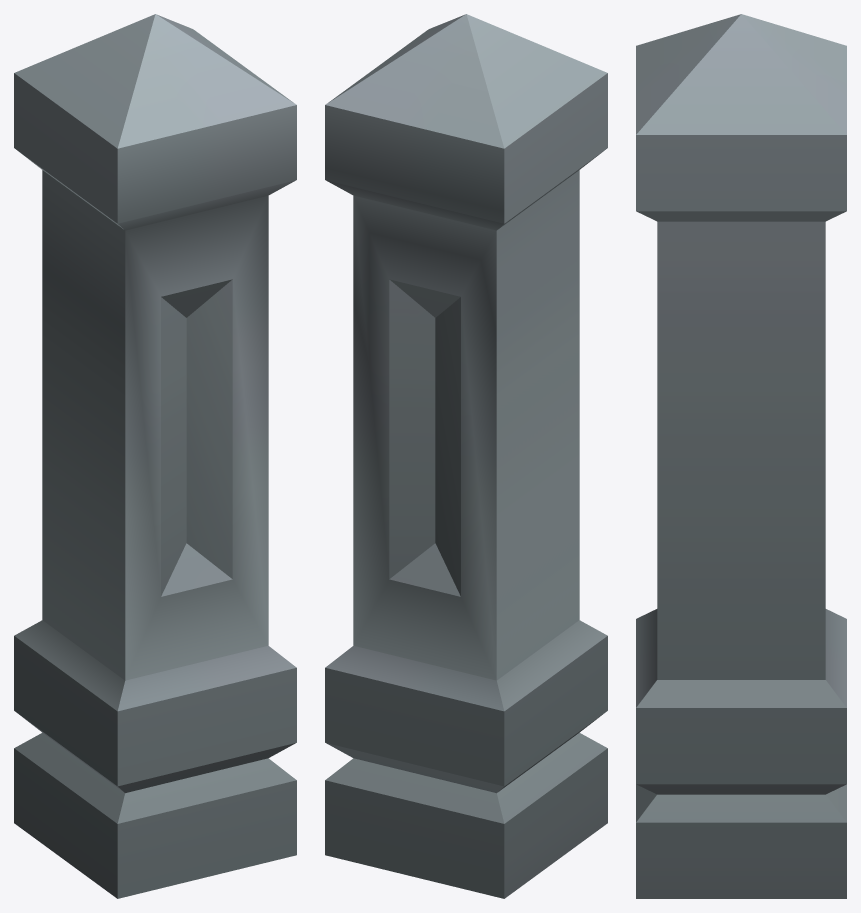
The model's file is kay-pilar-pedra.gltf.
3 views of the same model, side by side, from view 1: azimuth 30°, elevation 25°; view 2: azimuth 150°, elevation 25°; view 3: azimuth 270°, elevation 25° (orthographic).
Visible parts, largest first — view 1: pillar; view 2: pillar; view 3: pillar.
Boxes of the visible parts, x1,y1,x2,y2 form: pillar: (14, 14, 296, 898); pillar: (325, 14, 607, 898); pillar: (636, 14, 846, 898).
Size of the model in its own units: 0.5001 by 2.2 by 0.5001.
1 material, 1 textured.
